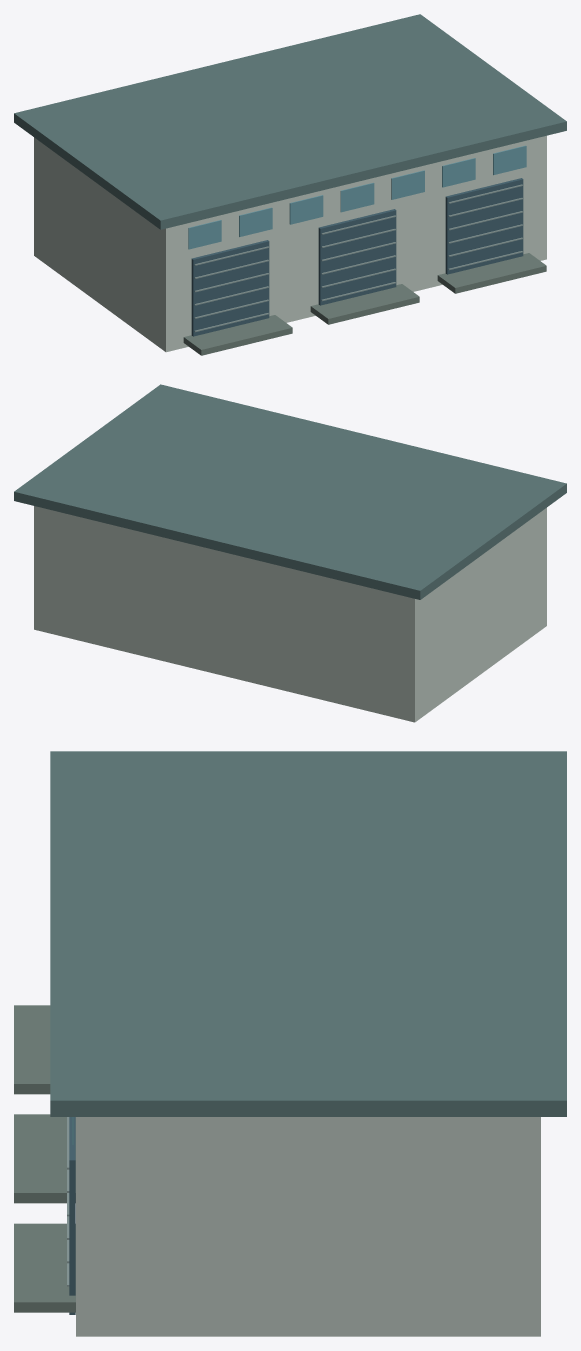
The model's file is modern-warehouse.glb.
3 renders of one model, top to bottom at view 1: azimuth 30°, elevation 25°; view 2: azimuth 150°, elevation 25°; view 3: azimuth 270°, elevation 25°, orthographic. The views are drawn at different scales.
Visible parts, largest first — view 1: modern-warehouse (×14), roof; view 2: roof, modern-warehouse; view 3: roof, modern-warehouse (×5).
Part boxes in pixels (x1=…): modern-warehouse (×14): x1=34, y1=135, x2=546, y2=355; roof: x1=14, y1=14, x2=566, y2=229; roof: x1=14, y1=384, x2=566, y2=599; modern-warehouse: x1=34, y1=506, x2=546, y2=722; roof: x1=50, y1=751, x2=566, y2=1116; modern-warehouse (×5): x1=14, y1=1005, x2=540, y2=1336.
Bounding box in the file's own units: 16 × 5.28 × 10.7.
